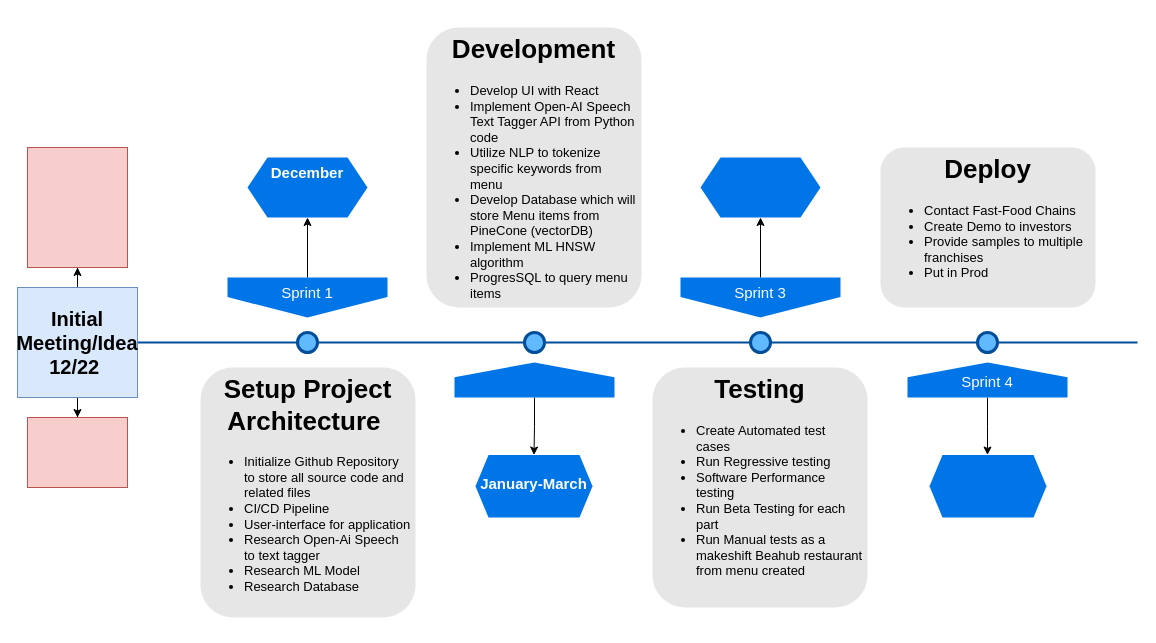
This 1156x643 diagram has some shape labels left out. The centre of each missing label's shape, as x and y in pixels:
"6 Month timeline" belongs at point (77, 207).
"AI Drive thru" belongs at point (77, 452).
"April" belongs at point (760, 187).
"May" belongs at point (987, 485).
"Sprint 2" belongs at point (534, 379).
